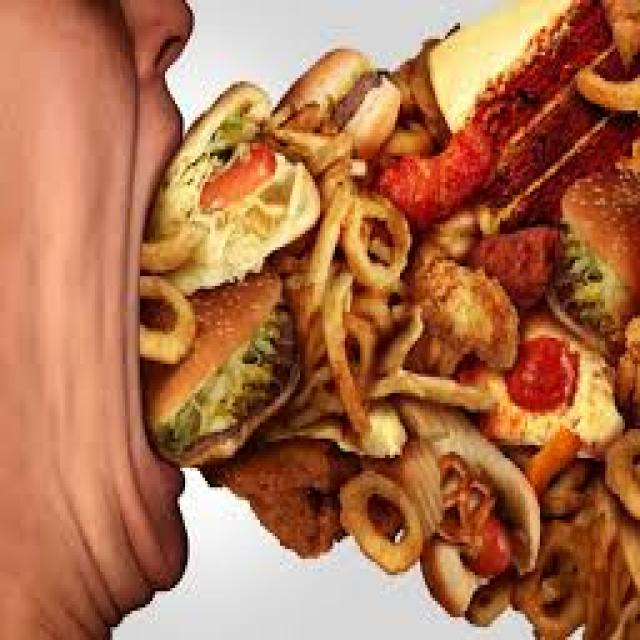Organik: (58, 0, 640, 640), (65, 0, 640, 640)
